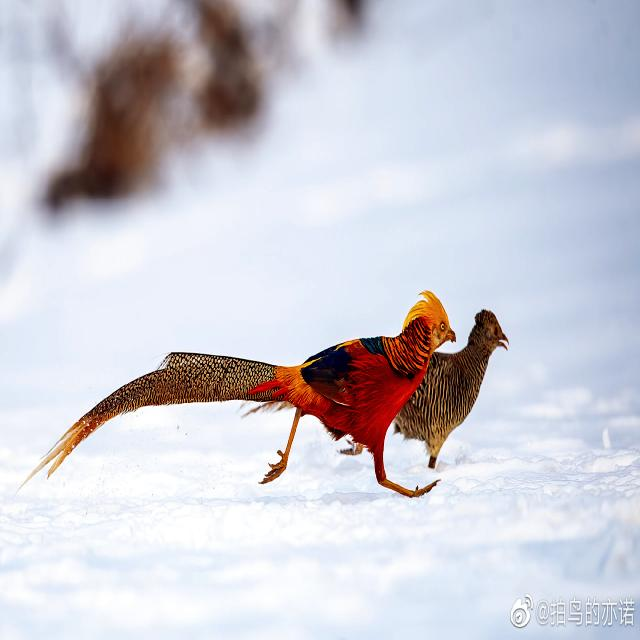Chrysolophus pictus feather: (28, 353, 276, 479)
